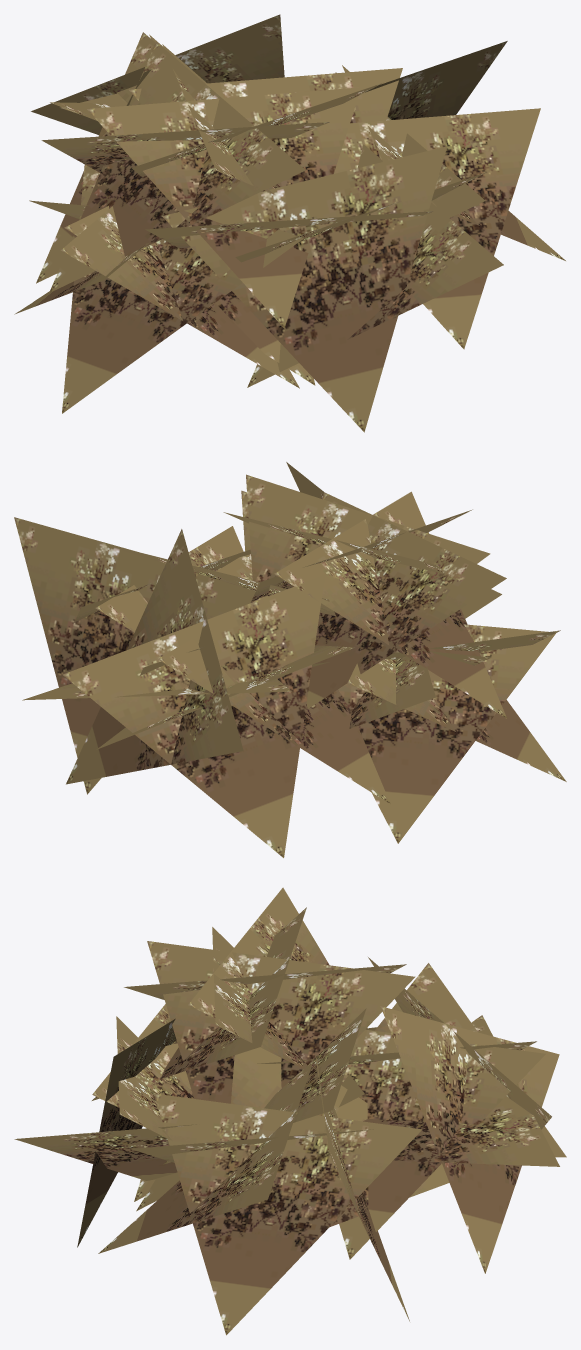
The model's file is flora_tree_bush_steppe_03_v3.glb.
3 views of the same model, one above another, from view 1: azimuth 30°, elevation 25°; view 2: azimuth 150°, elevation 25°; view 3: azimuth 270°, elevation 25° (orthographic). The views are drawn at different scales.
Parts seen in each view (by area): view 1: flora_tree_bush_steppe_03_v3_part0; view 2: flora_tree_bush_steppe_03_v3_part0; view 3: flora_tree_bush_steppe_03_v3_part0.
Boxes of the visible parts, x1,y1,x2,y2 form: flora_tree_bush_steppe_03_v3_part0: [14, 14, 565, 432]; flora_tree_bush_steppe_03_v3_part0: [14, 462, 566, 857]; flora_tree_bush_steppe_03_v3_part0: [14, 887, 566, 1335].
Bounding box in the file's own units: 12.58 × 6.68 × 12.04.
Materials: 1 (1 with a texture image).
